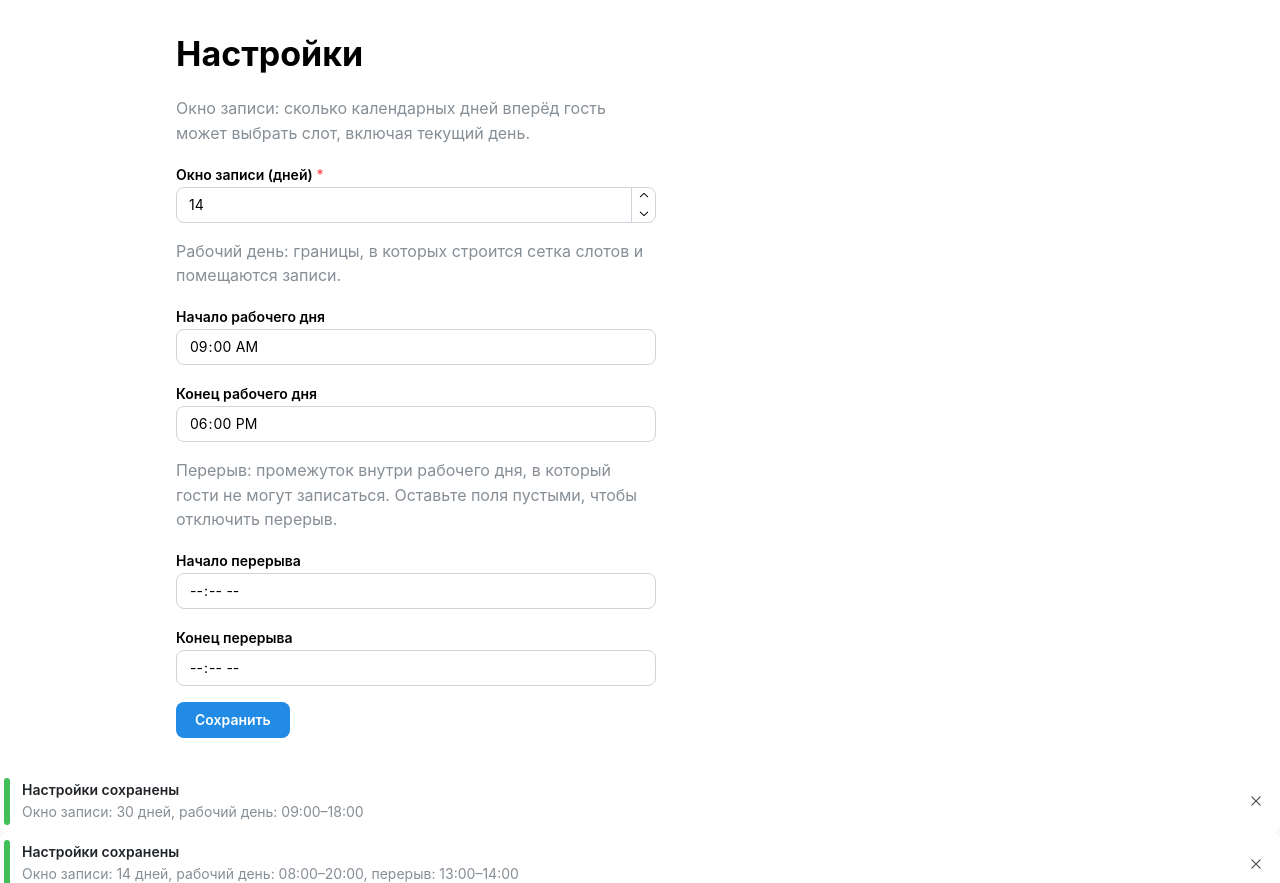
Scenario: SettingsPage (настройки календаря) › не отправляет перерыв, выходящий за рабочий день
Type "08:00" into the time field labelled "Начало перерыва". click: point(416, 591)
box: [176,573,656,609]
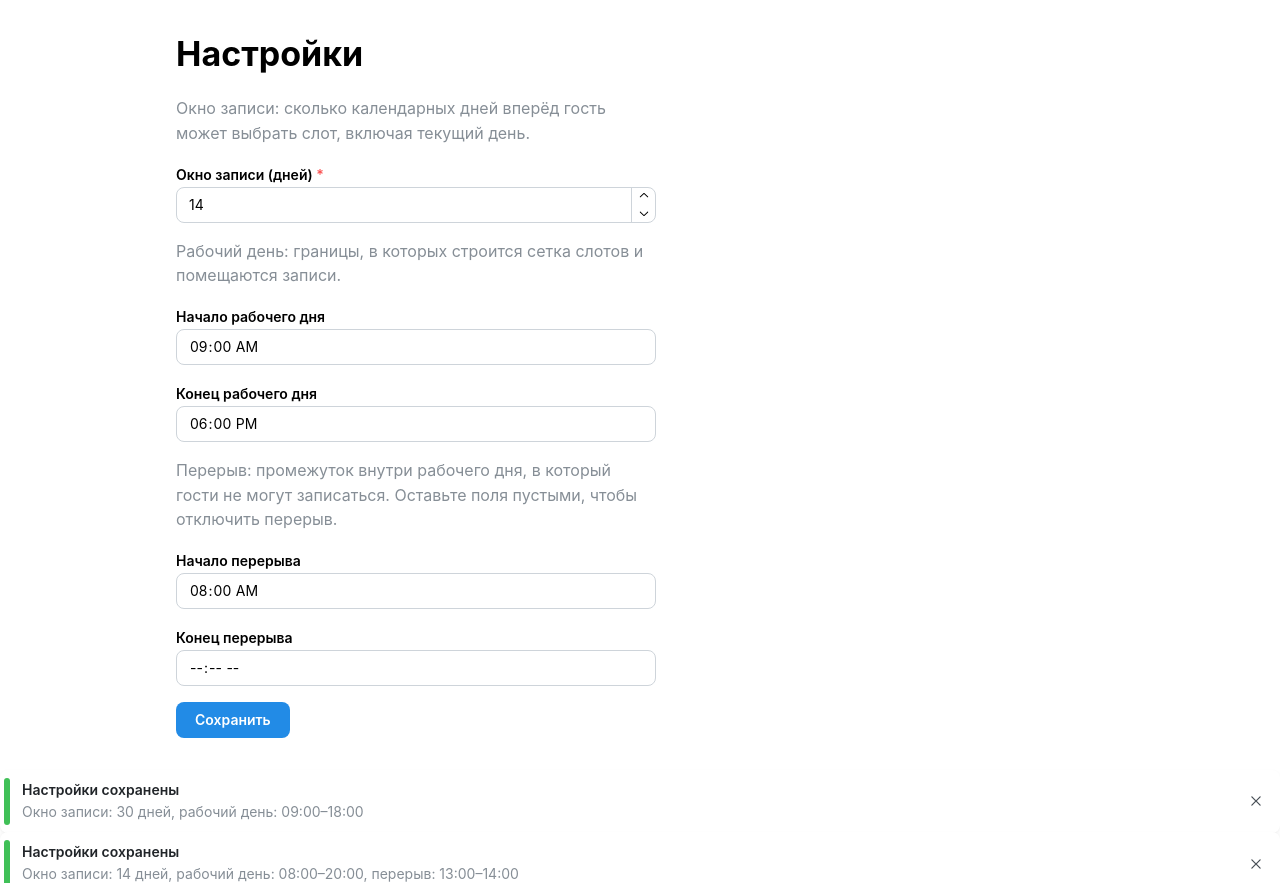
Type "09:00" into the time field labelled "Конец перерыва". click: point(416, 668)
box: [176,650,656,686]
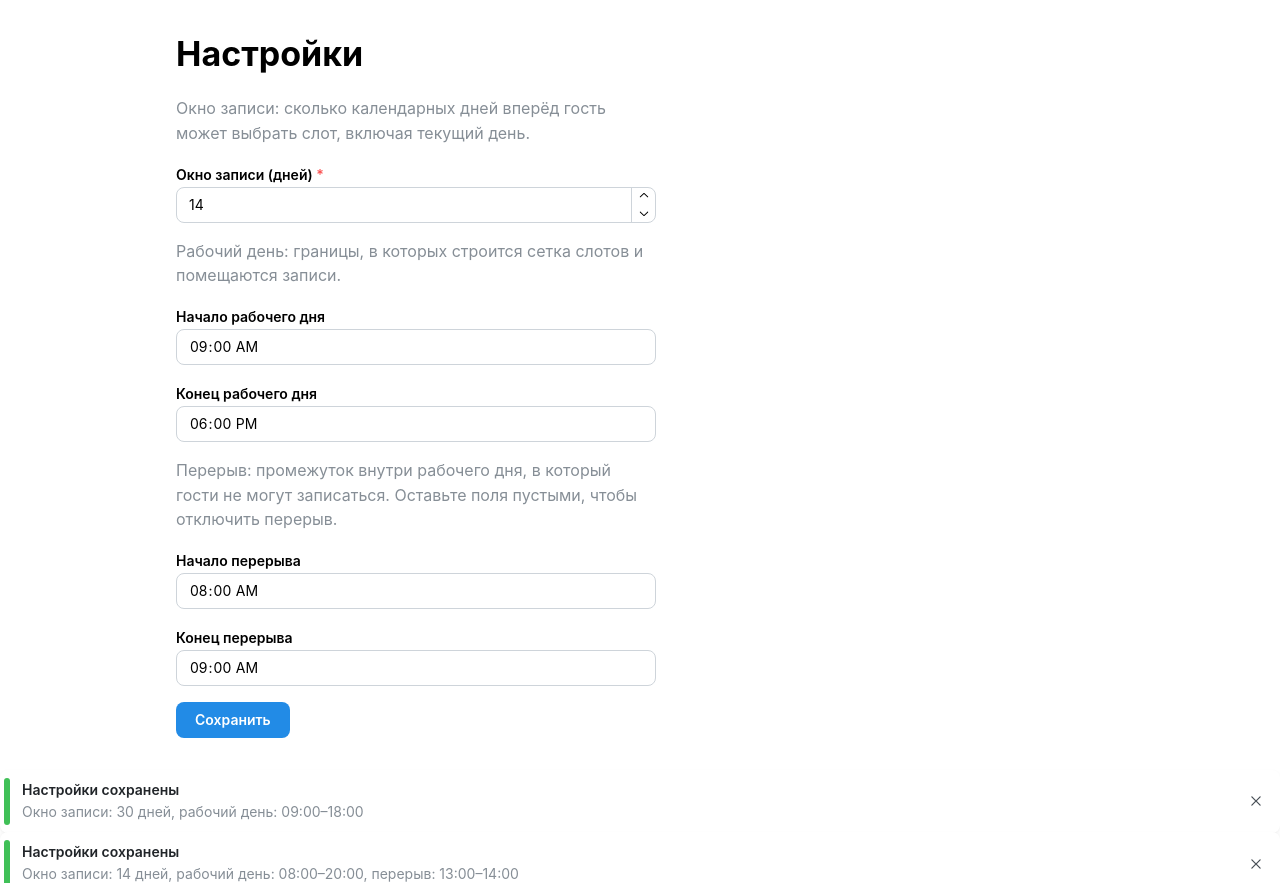
Click the button "Сохранить". click: point(233, 720)
box: [176,702,290,738]
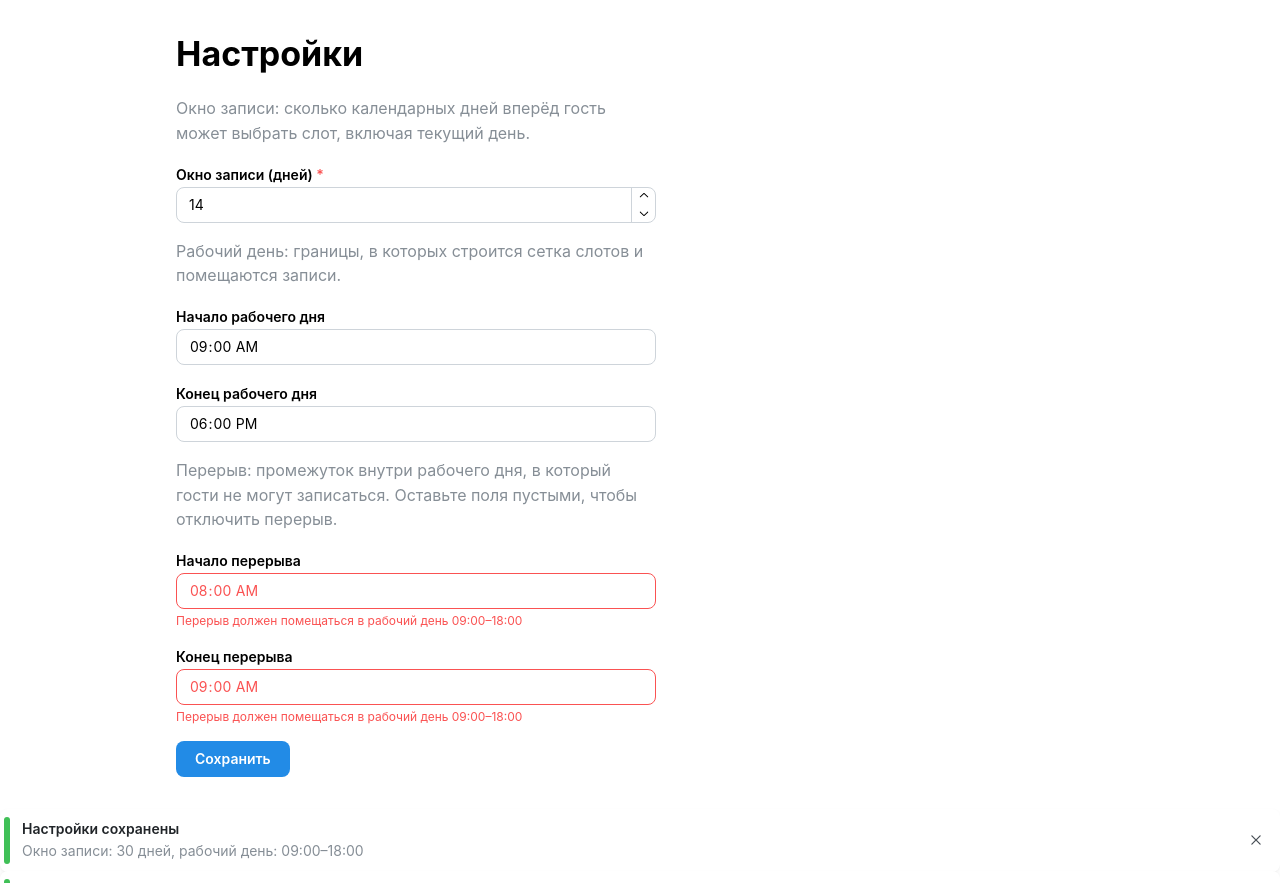
Expected: the text "Перерыв должен помещаться в рабочий день 09:00–18:00" below "Начало перерыва" is shown, [176,613,522,628]
